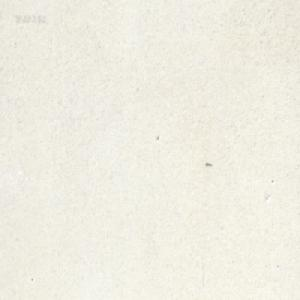Nail: (205, 161, 212, 167)
